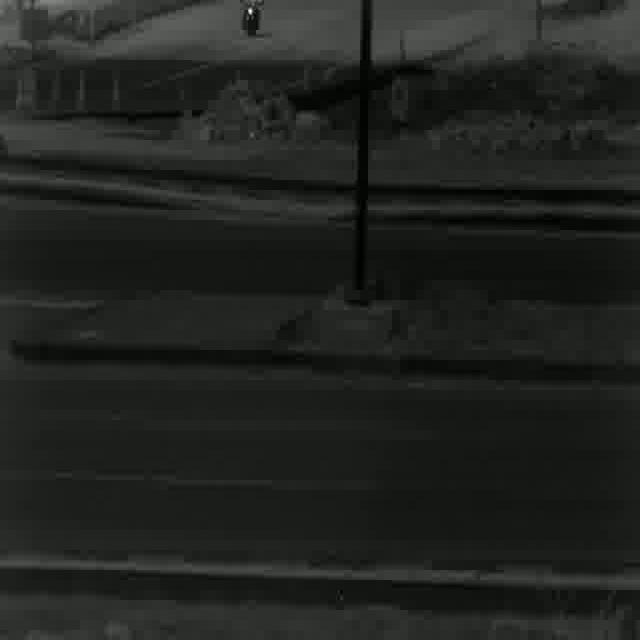Motorcycle: (237, 0, 270, 35)
